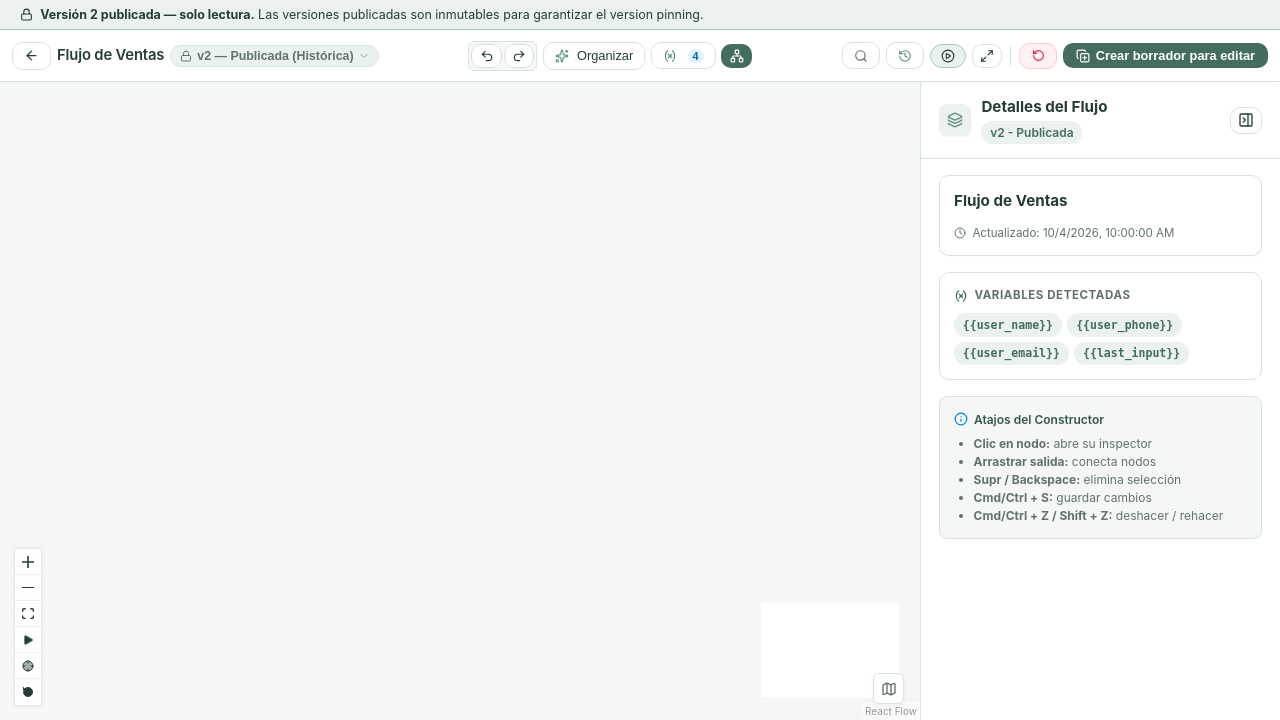
FlowEditor › opens styled CreateDraftModal and clones version without window.confirm
The width and height of the screenshot is (1280, 720).
Later steps or results of the test are not shown.
# Click "Crear nueva versión borrador" in toolbar
Click the button with aria-label "Crear nueva versión borrador".
click(1166, 56)  # box [1063,43,1268,68]
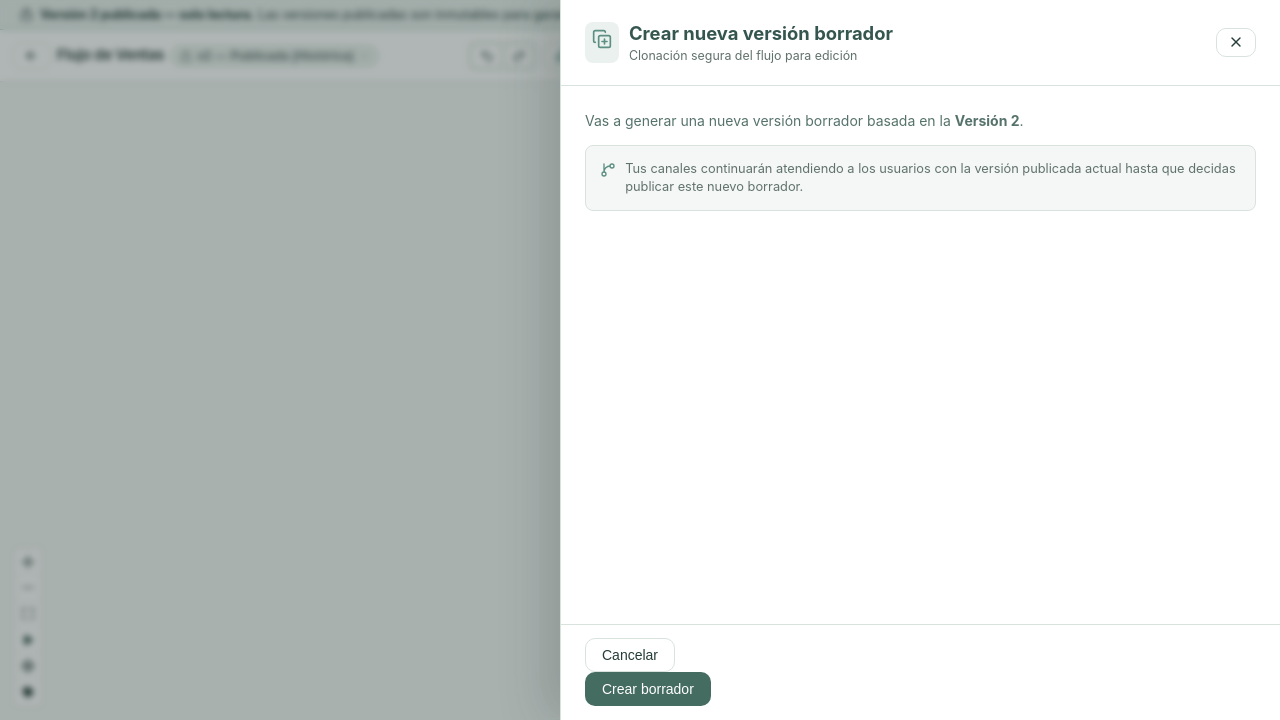
Check: the heading "Crear nueva versión borrador" is shown, box [629,20,893,47]
Check: the text "Vas a generar una nueva versión borrador basada en la" is shown, box [585,112,955,129]
Check: the text "Versión 2" is shown, box [955,112,1020,129]
